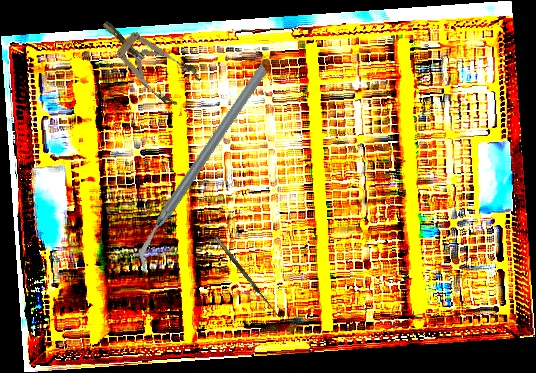Chopper: (84, 62, 322, 271)
Hook Surgical: (214, 233, 285, 319)
Speculum: (90, 5, 204, 111)
